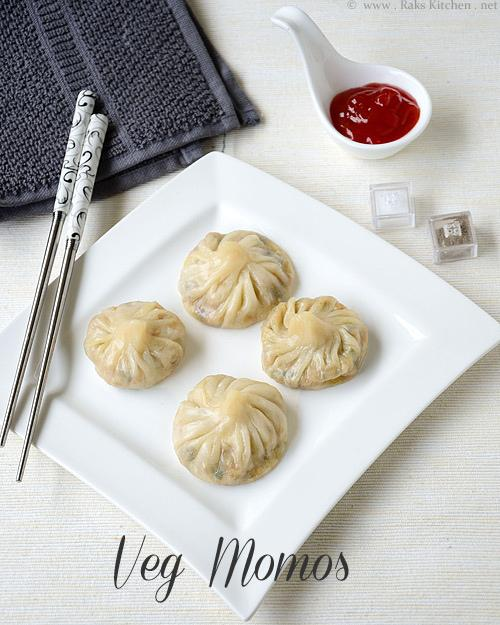momos: (172, 375, 287, 485), (178, 232, 295, 328), (261, 297, 367, 389), (84, 302, 186, 389)
